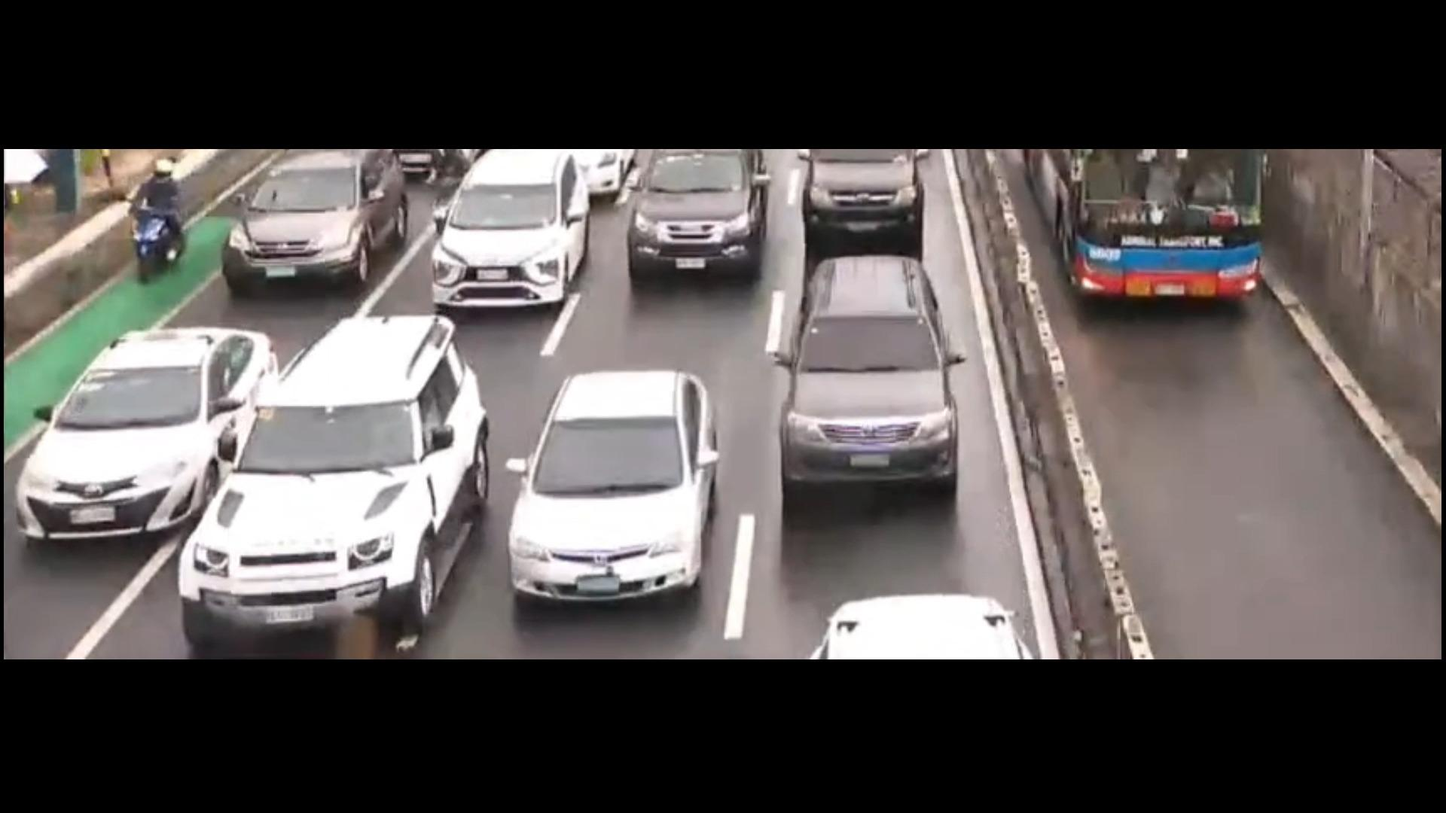Bus: (1005, 149, 1293, 322)
Motorcycle: (117, 154, 190, 288)
SUV: (175, 318, 490, 646), (774, 254, 973, 512), (222, 141, 424, 294), (422, 149, 601, 311), (619, 139, 763, 279), (800, 147, 926, 252)
Sedan: (15, 314, 277, 538), (508, 373, 732, 600)
